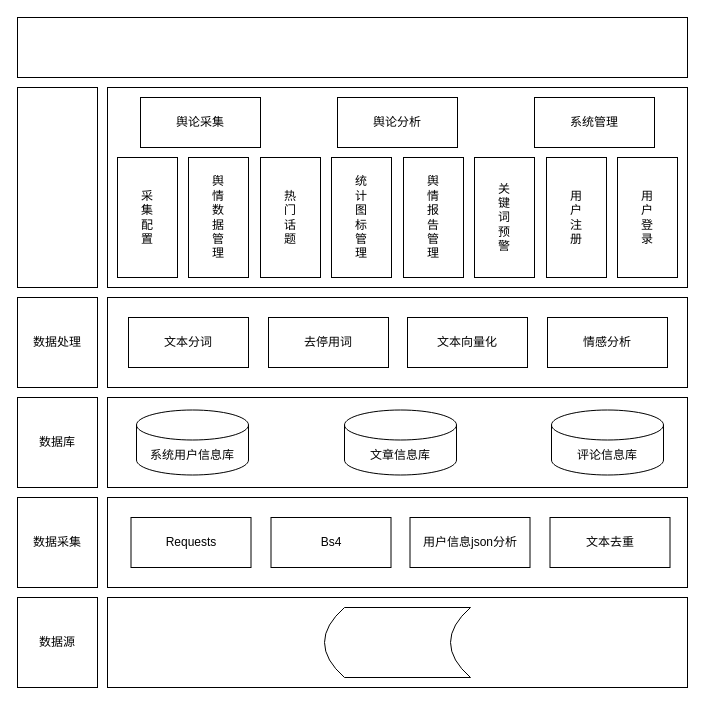
This 705x705 diagram has some shape labels left out. The shapes that lost their labels are listed below. From the top down, each one's centre as x and y in pixels, then its label:
At (x=352, y=47): "基于 flask 的社交软件舆情分析系统的实现与设计".
At (x=57, y=187): "业 务 应 用".
At (x=397, y=642): "微博".
